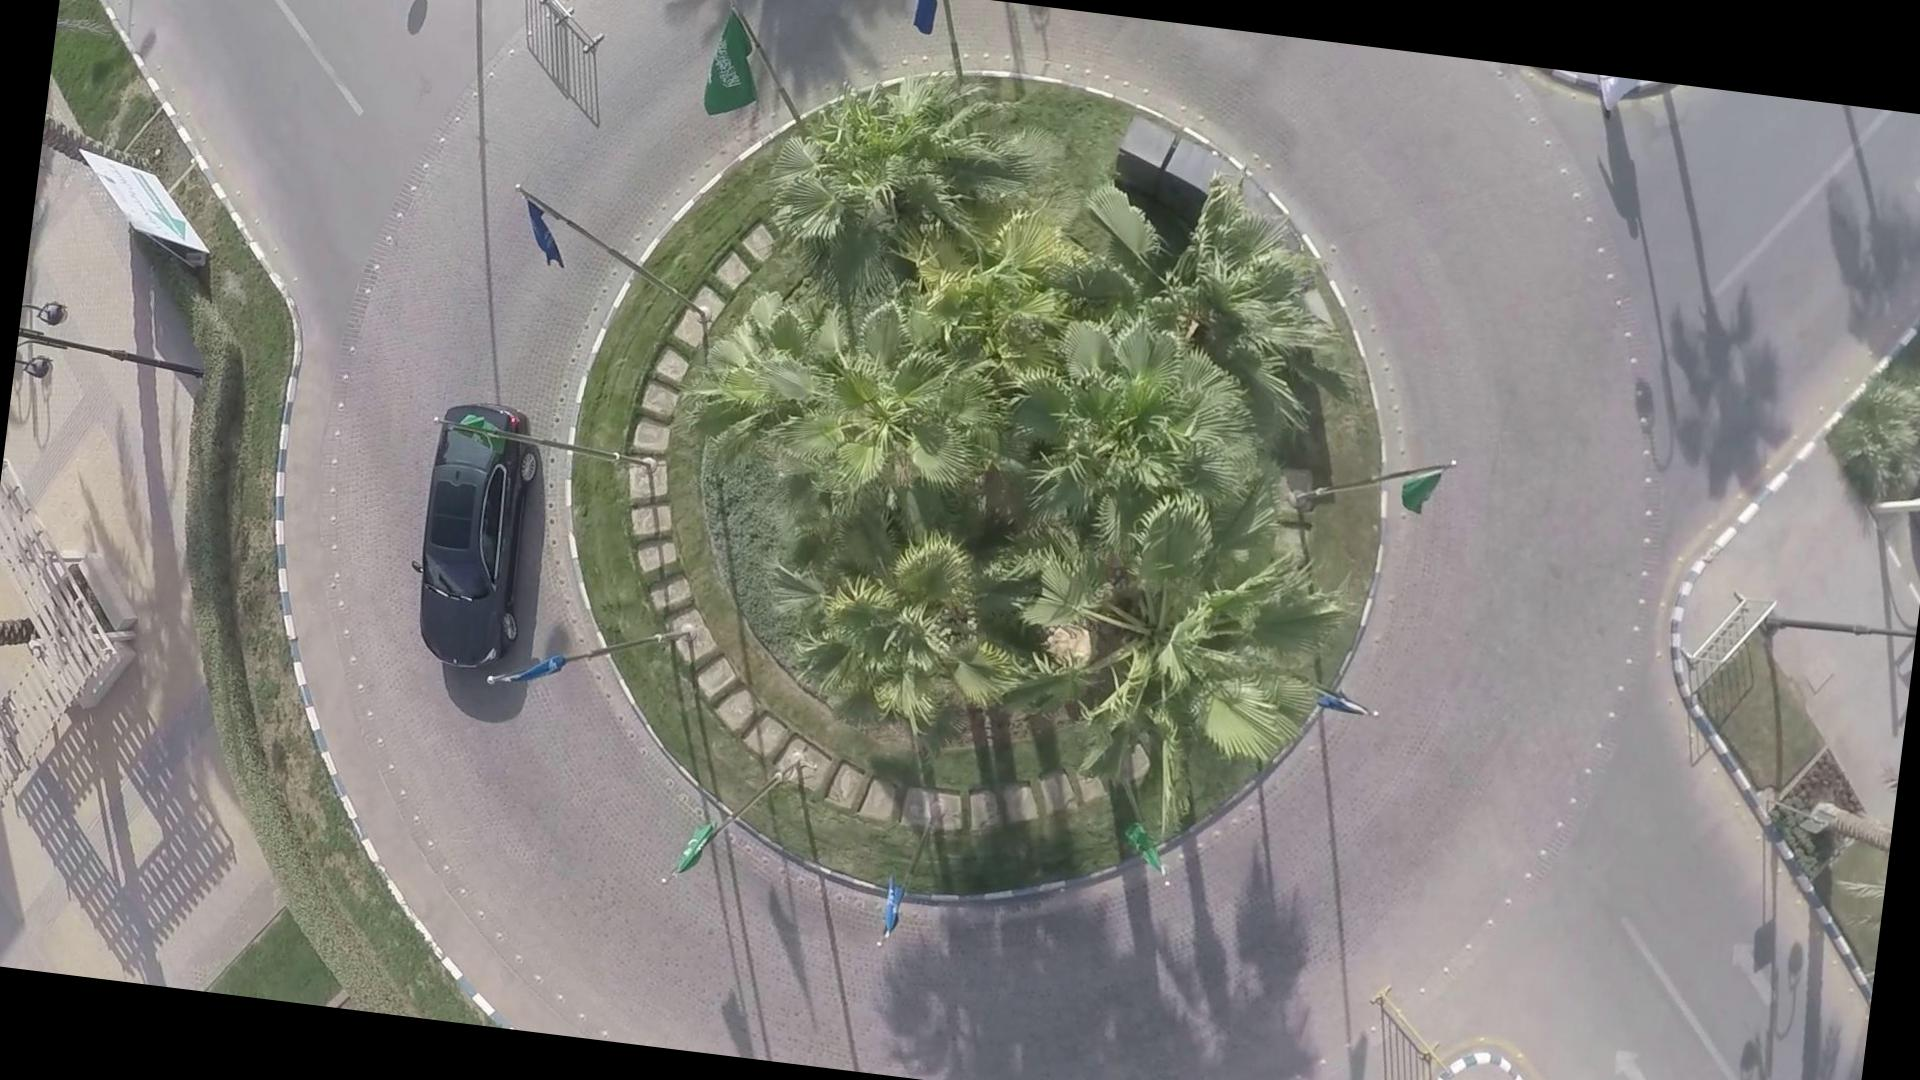vehicle: (374, 384, 548, 674)
